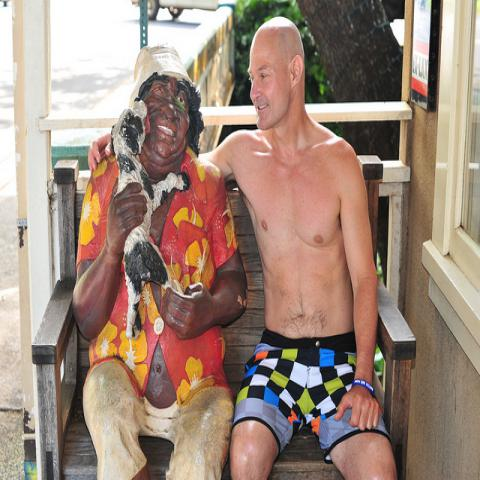car: (132, 0, 220, 19)
